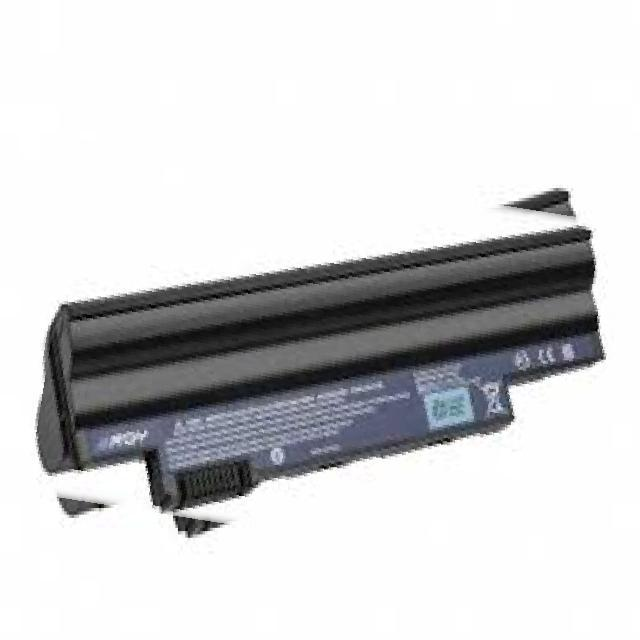Battery: (30, 225, 640, 511)
